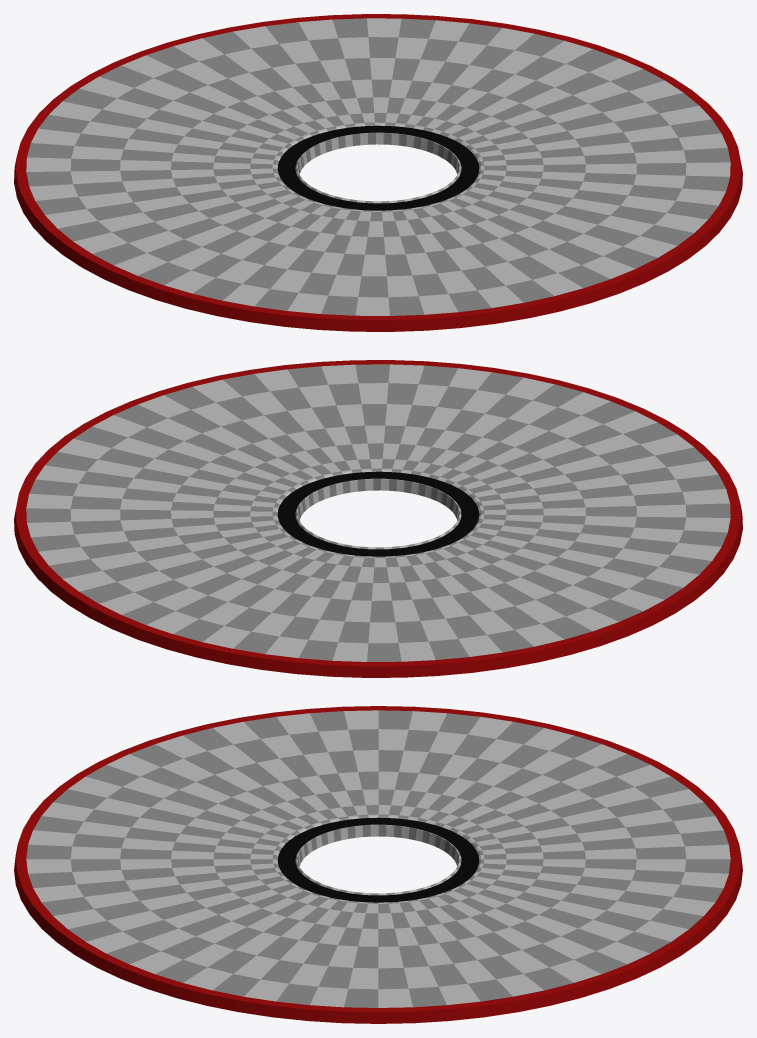
Rendered from platform.fbx.
The picture shows the model from 3 angles, top to bottom: view 1: azimuth 30°, elevation 25°; view 2: azimuth 150°, elevation 25°; view 3: azimuth 270°, elevation 25°; orthographic projection.
Visible parts, largest first — view 1: Cylinder001; view 2: Cylinder001; view 3: Cylinder001.
Boxes of the visible parts, x1,y1,x2,y2 form: Cylinder001: (14, 14, 742, 331); Cylinder001: (14, 360, 742, 677); Cylinder001: (14, 706, 742, 1023).
Size of what is drawn, in the model's own units: 989 by 16.09 by 989.
